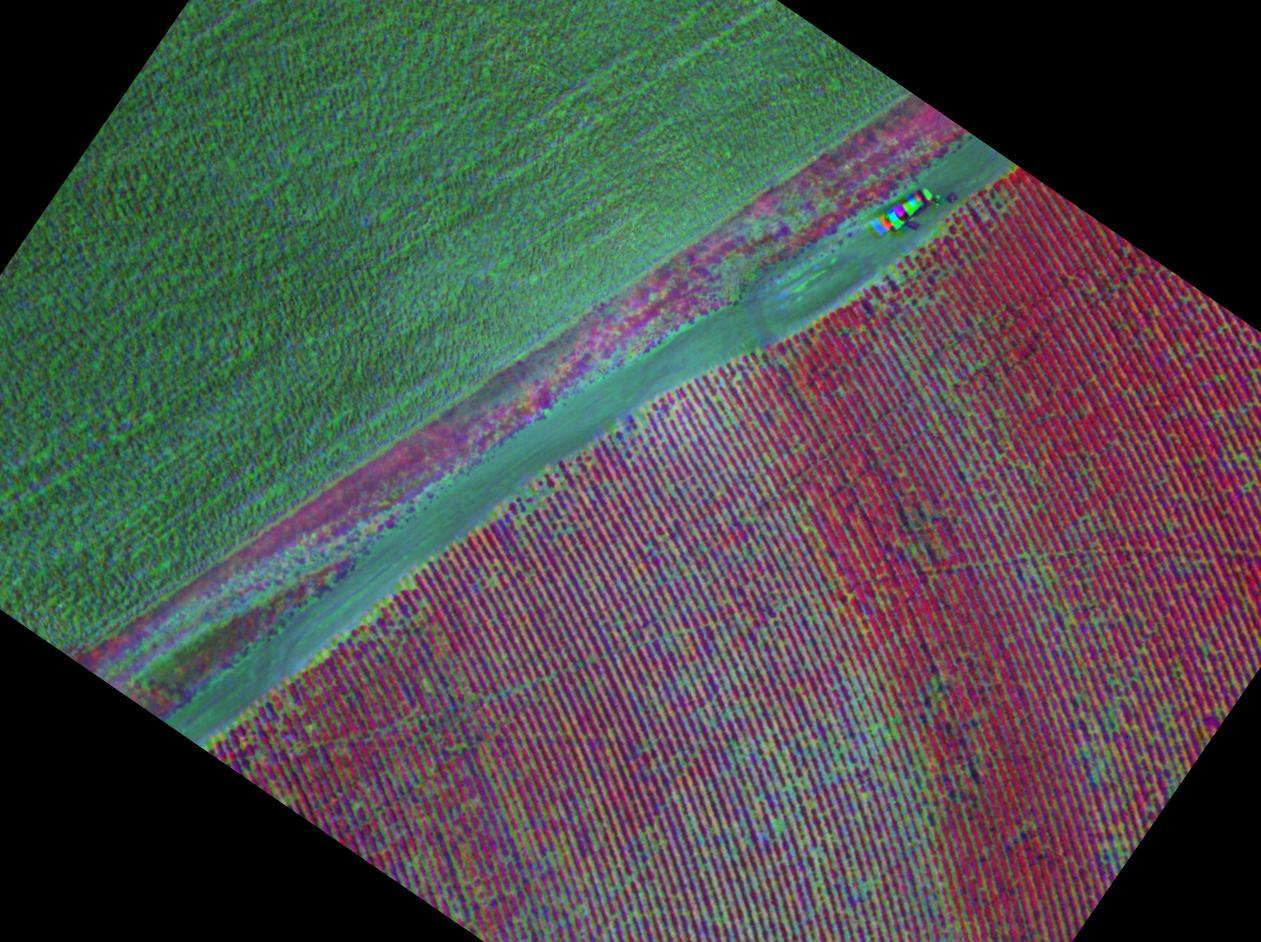dc: (717, 395, 722, 401), (873, 725, 878, 731), (641, 421, 646, 426), (775, 822, 780, 827), (865, 885, 869, 889)
